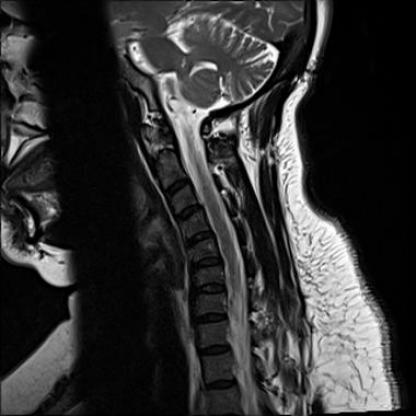Disc Bulgerotation: (185, 227, 214, 246), (190, 253, 223, 269)
